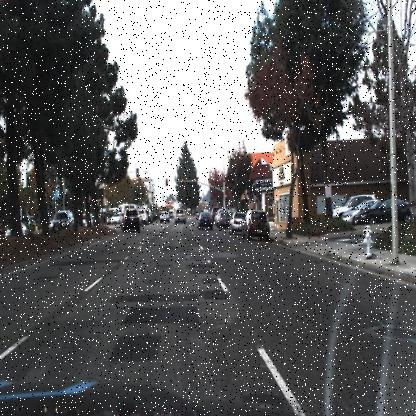car: (351, 195, 414, 227), (332, 191, 374, 223), (240, 207, 271, 243), (341, 200, 378, 223), (46, 207, 76, 234), (48, 210, 76, 233), (227, 207, 247, 238), (121, 206, 143, 232), (195, 208, 216, 230), (4, 222, 29, 240), (216, 209, 232, 231), (216, 208, 231, 229), (156, 206, 172, 224), (174, 206, 188, 224), (140, 210, 150, 226), (160, 212, 170, 224)
